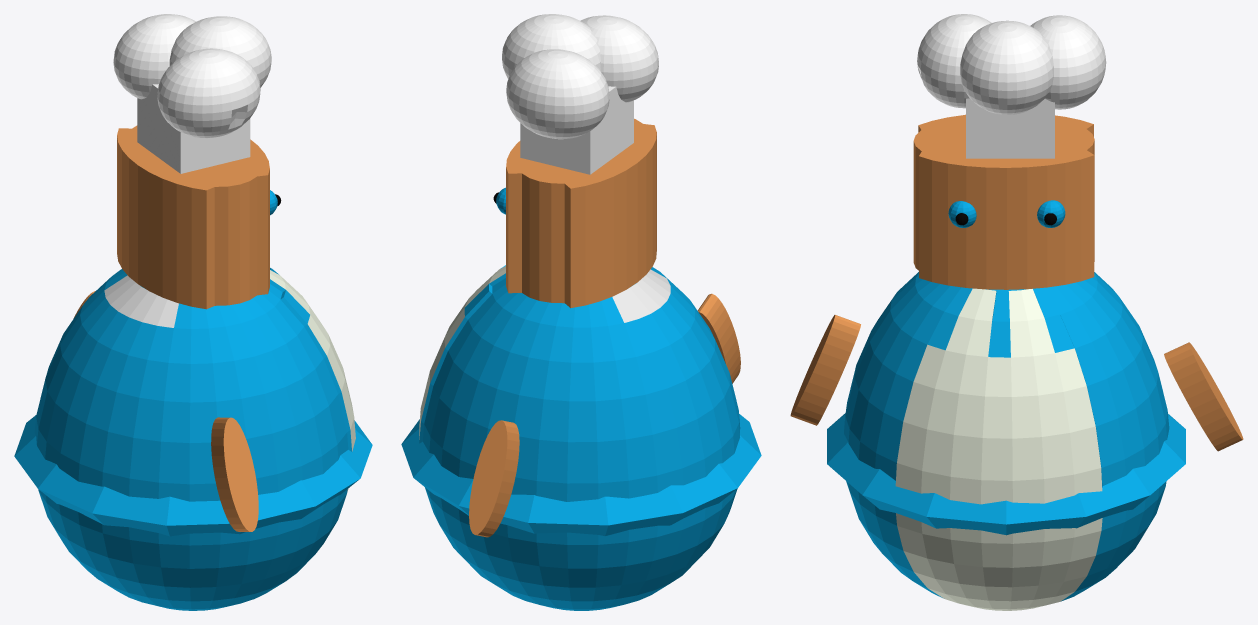
The model's file is Character.fbx.
3 views of the same model, side by side, from view 1: azimuth 30°, elevation 25°; view 2: azimuth 150°, elevation 25°; view 3: azimuth 270°, elevation 25° (orthographic). The views are drawn at different scales.
Visible parts, largest first — view 1: Player; view 2: Player; view 3: Player.
Boxes of the visible parts, x1=… form: Player: x1=14, y1=14, x2=372, y2=610; Player: x1=401, y1=14, x2=761, y2=610; Player: x1=790, y1=14, x2=1243, y2=610.
Size of the model in its own units: 224 by 391 by 275.
